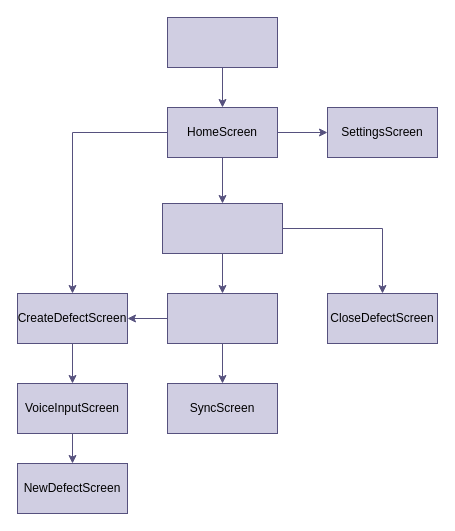
Some shapes in this 455 by 531 pixel diagram are drawn without their labels. Each missing label, with the box of its shape:
DefectDetailsScreen: (162, 202, 282, 254)
EditingScreen: (166, 292, 278, 344)
SplashScreen: (166, 16, 278, 68)
